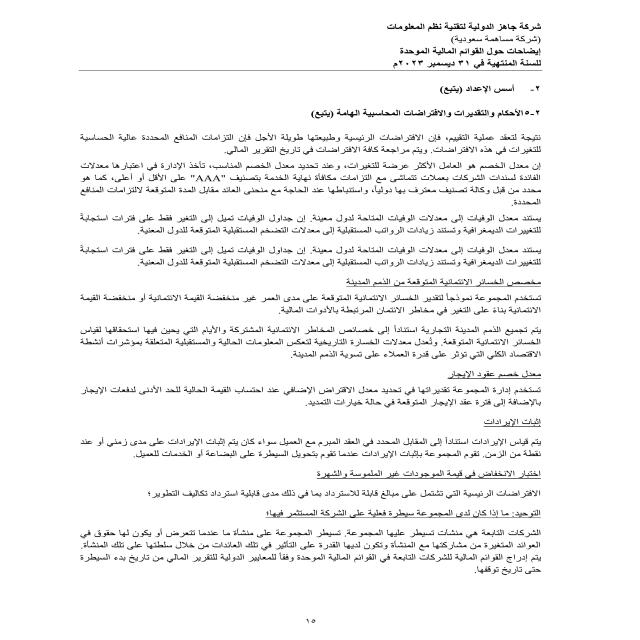notes: (397, 44, 549, 58)
text: (48, 76, 554, 583)
